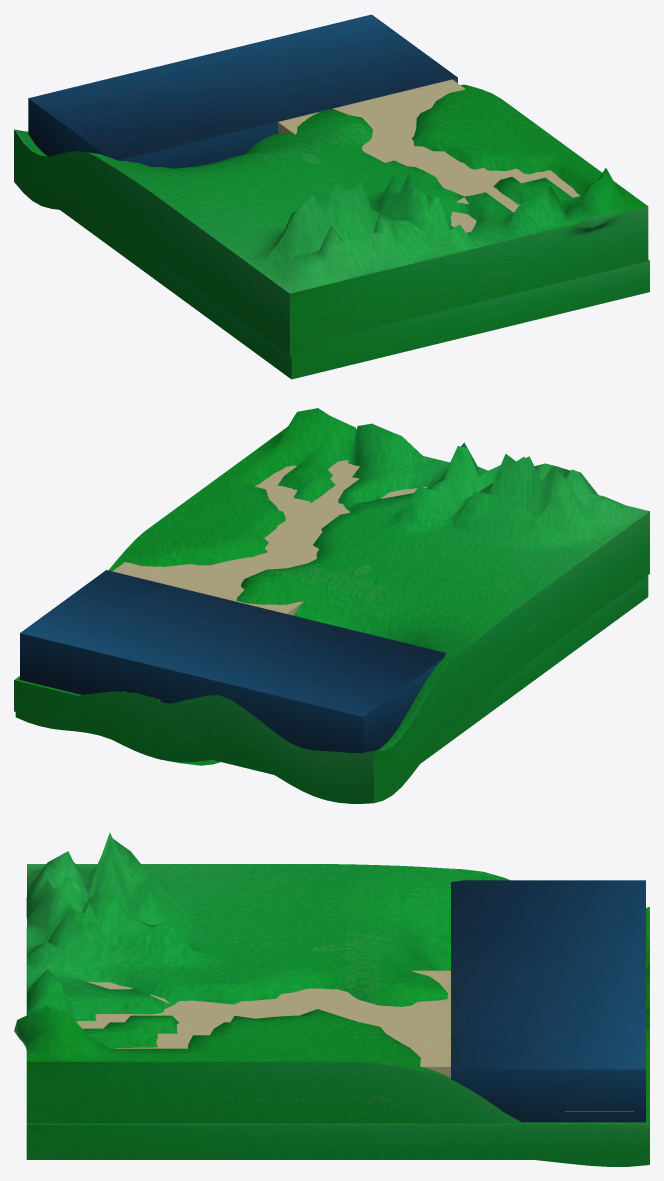
Rendered from 鸟爪型三角洲.gltf.
3 renders of one model, top to bottom at view 1: azimuth 30°, elevation 25°; view 2: azimuth 150°, elevation 25°; view 3: azimuth 270°, elevation 25°, orthographic. The views are drawn at different scales.
Visible parts, largest first — view 1: node_Box002_-1634, node_Box005_-1638, node_Box003_-1636, node_Box006_-1640; view 2: node_Box002_-1634, node_Box005_-1638, node_Box006_-1640, node_Box003_-1636; view 3: node_Box002_-1634, node_Box005_-1638, node_Box003_-1636, node_Box006_-1640.
Boxes of the visible parts, bbox=[...] form: node_Box002_-1634: bbox=[14, 84, 648, 355]; node_Box005_-1638: bbox=[28, 14, 457, 168]; node_Box003_-1636: bbox=[60, 210, 649, 379]; node_Box006_-1640: bbox=[278, 79, 580, 232]; node_Box002_-1634: bbox=[15, 408, 649, 803]; node_Box005_-1638: bbox=[20, 570, 446, 753]; node_Box006_-1640: bbox=[112, 460, 426, 615]; node_Box003_-1636: bbox=[14, 575, 648, 774]; node_Box002_-1634: bbox=[14, 832, 649, 1166]; node_Box005_-1638: bbox=[451, 880, 645, 1122]; node_Box003_-1636: bbox=[26, 927, 649, 1159]; node_Box006_-1640: bbox=[76, 970, 450, 1077].
Bounding box in the file's own units: 1.53 × 0.7374 × 2.07.
